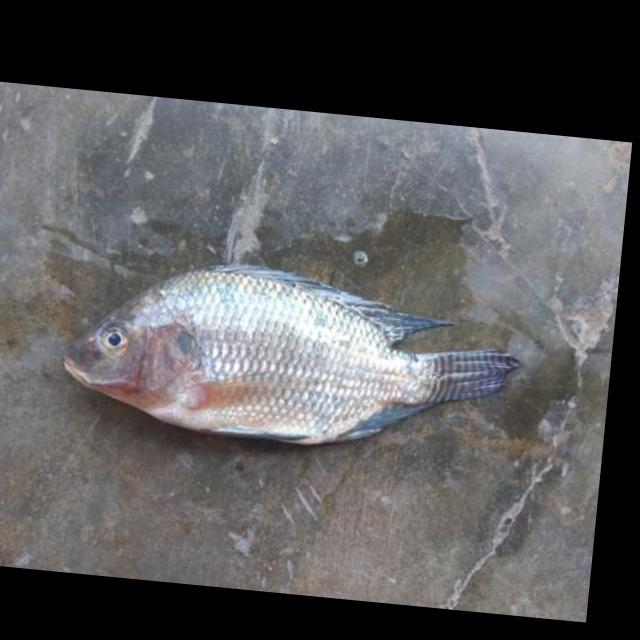Tilapia: (56, 245, 530, 468)
